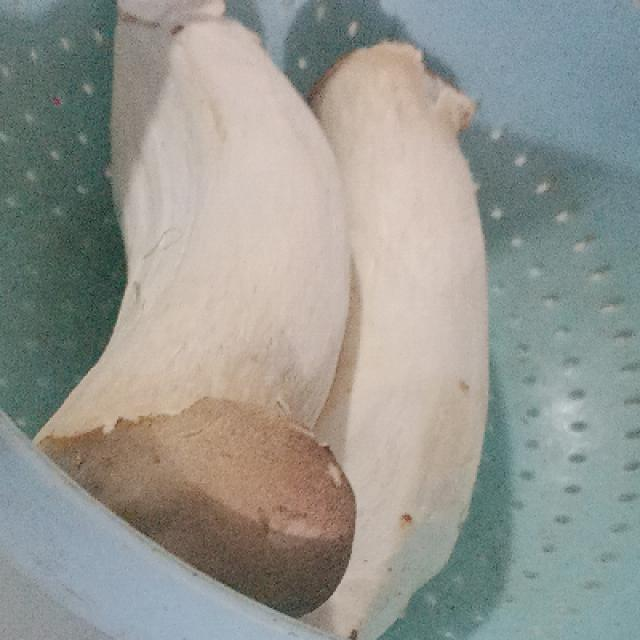Pleurotus eryngii: (31, 0, 488, 640)
